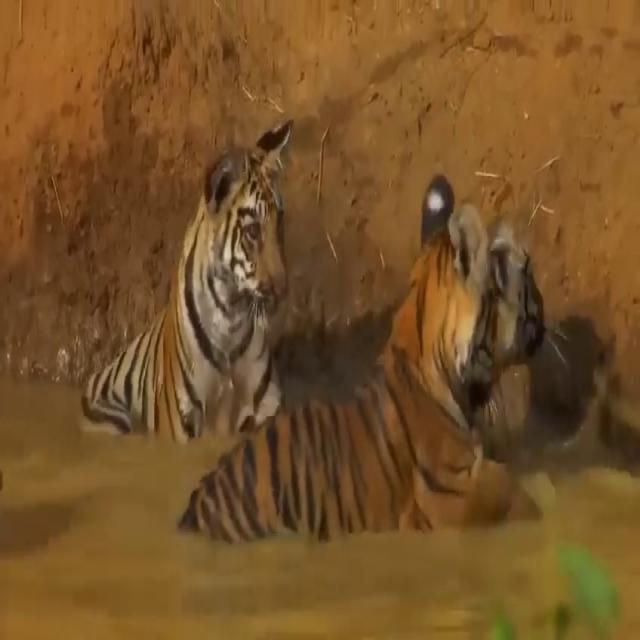tiger: (175, 174, 571, 540), (76, 111, 294, 437)
